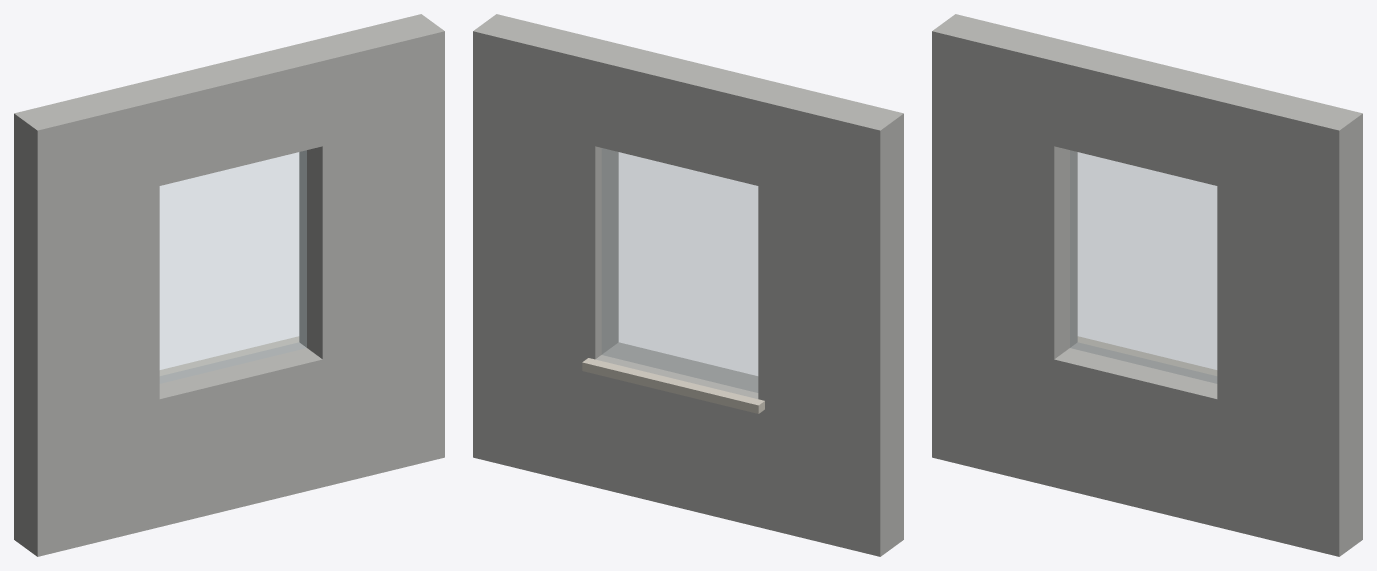
File: fac_concrete_win_a.glb
The picture shows the model from 3 angles, left to right: view 1: azimuth 30°, elevation 25°; view 2: azimuth 150°, elevation 25°; view 3: azimuth 330°, elevation 25°; orthographic projection.
Visible parts, largest first — view 1: fac_concrete_win_a; view 2: fac_concrete_win_a; view 3: fac_concrete_win_a.
Boxes of the visible parts, x1,y1,x2,y2 form: fac_concrete_win_a: (14, 14, 444, 556); fac_concrete_win_a: (473, 14, 903, 556); fac_concrete_win_a: (932, 14, 1362, 556).
Size of what is drawn, in the model's own units: 3 by 3 by 0.38.
